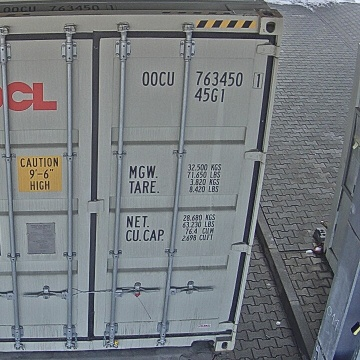serial_id: (142, 71, 260, 87)
